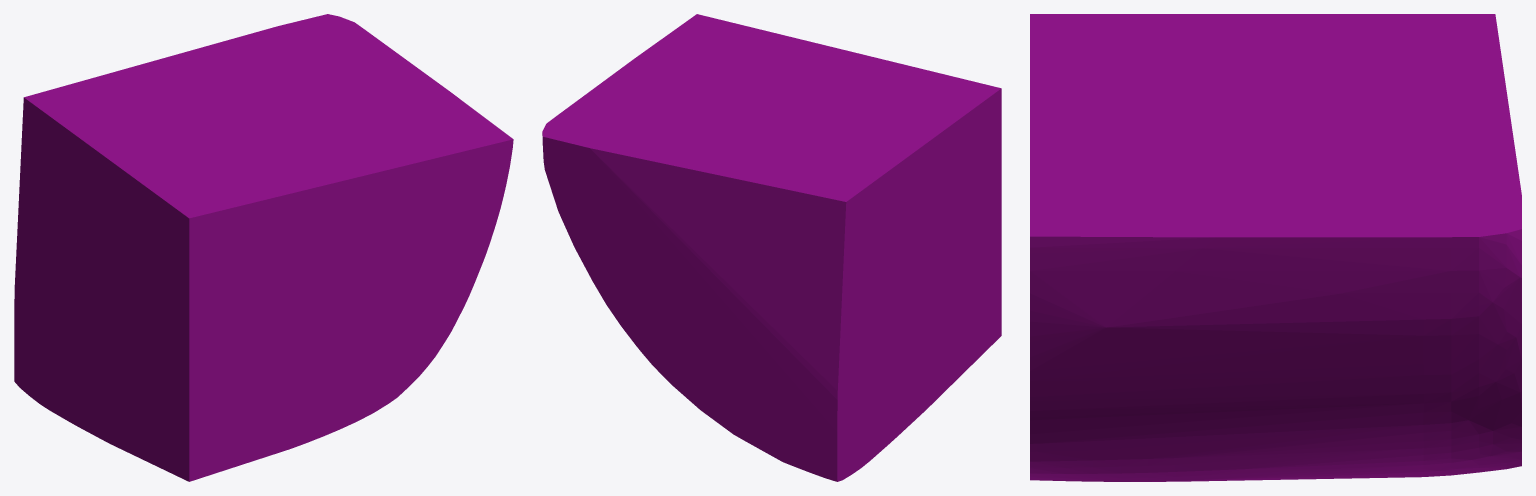
Rendered from piece_14.obj.
The picture shows the model from 3 angles, left to right: view 1: azimuth 30°, elevation 25°; view 2: azimuth 150°, elevation 25°; view 3: azimuth 270°, elevation 25°; orthographic projection. The views are drawn at different scales.
Size of the model in its own units: 0.0325 by 0.0281 by 0.0302.
